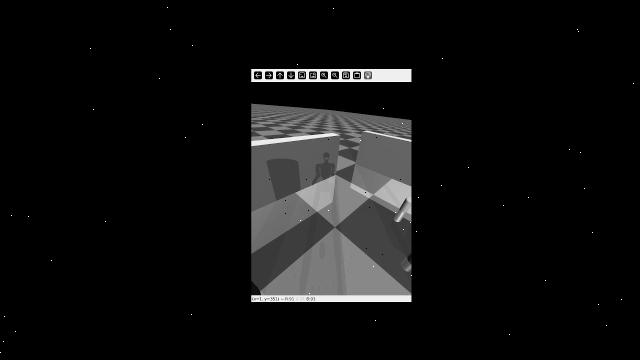cilindro: (400, 190, 411, 216)
